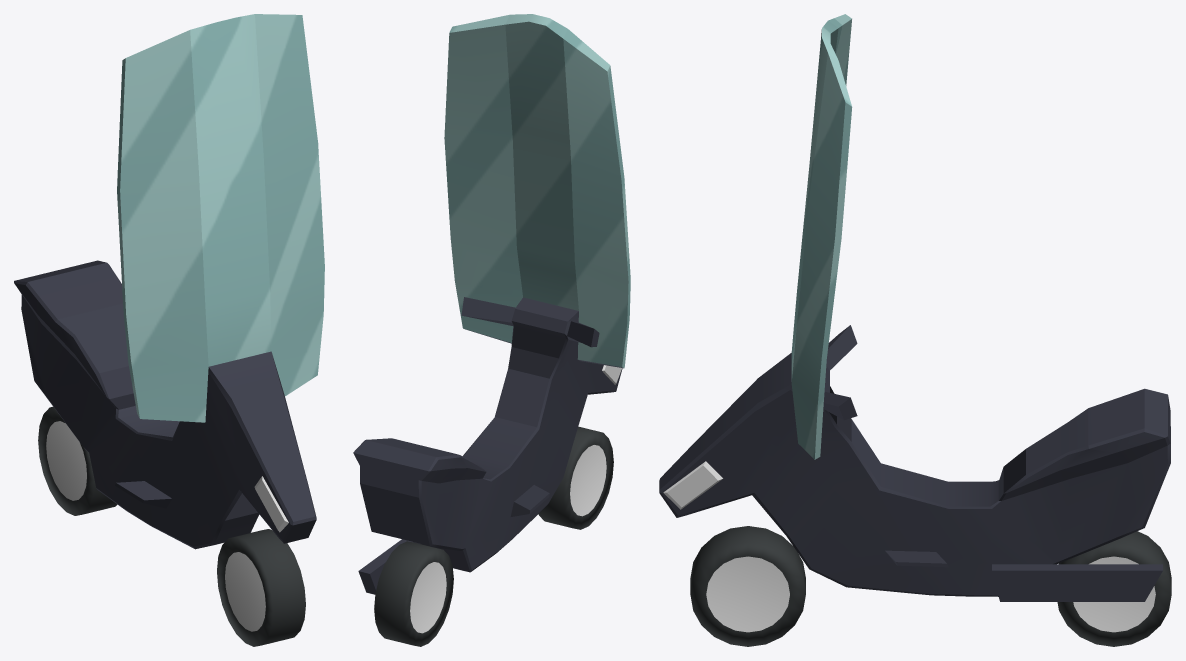
Rendered from motorcycle 2 red.fbx.
3 renders of one model, left to right at view 1: azimuth 30°, elevation 25°; view 2: azimuth 150°, elevation 25°; view 3: azimuth 270°, elevation 25°, orthographic. The views are drawn at different scales.
Parts seen in each view (by area): view 1: motorcycle_2_red; view 2: motorcycle_2_red; view 3: motorcycle_2_red.
Boxes of the visible parts, bbox=[...] form: motorcycle_2_red: bbox=[14, 14, 324, 646]; motorcycle_2_red: bbox=[353, 14, 630, 646]; motorcycle_2_red: bbox=[659, 14, 1171, 646].
Size of the model in its own units: 45.59 by 130 by 99.48.
